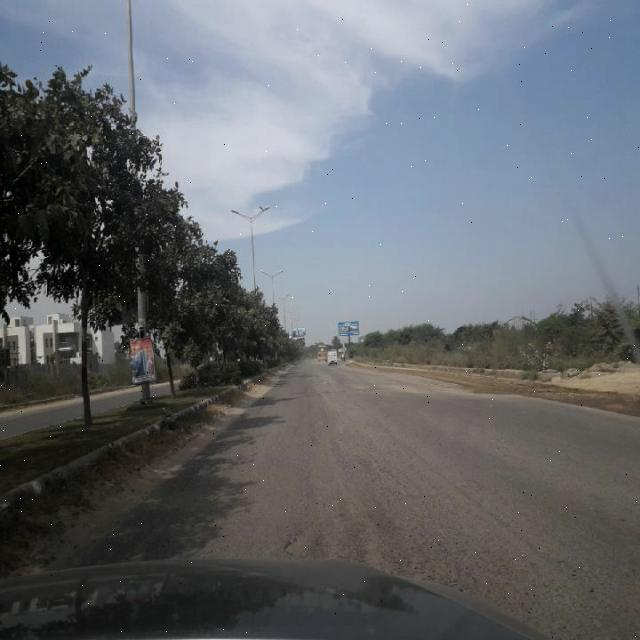D20: (540, 528, 640, 634)
D40: (349, 516, 475, 591), (279, 527, 331, 557)
